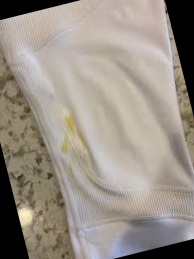mustard: (54, 114, 81, 152), (61, 162, 76, 187)
